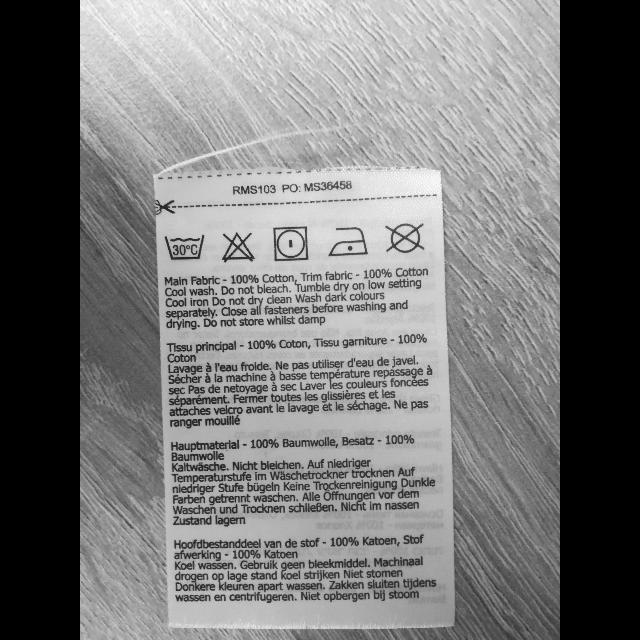30C: (163, 233, 205, 263)
DN_bleach: (220, 229, 256, 265)
DN_dry_clean: (383, 220, 425, 256)
iron_low: (328, 224, 369, 260)
tumble_dry_low: (269, 224, 311, 264)
